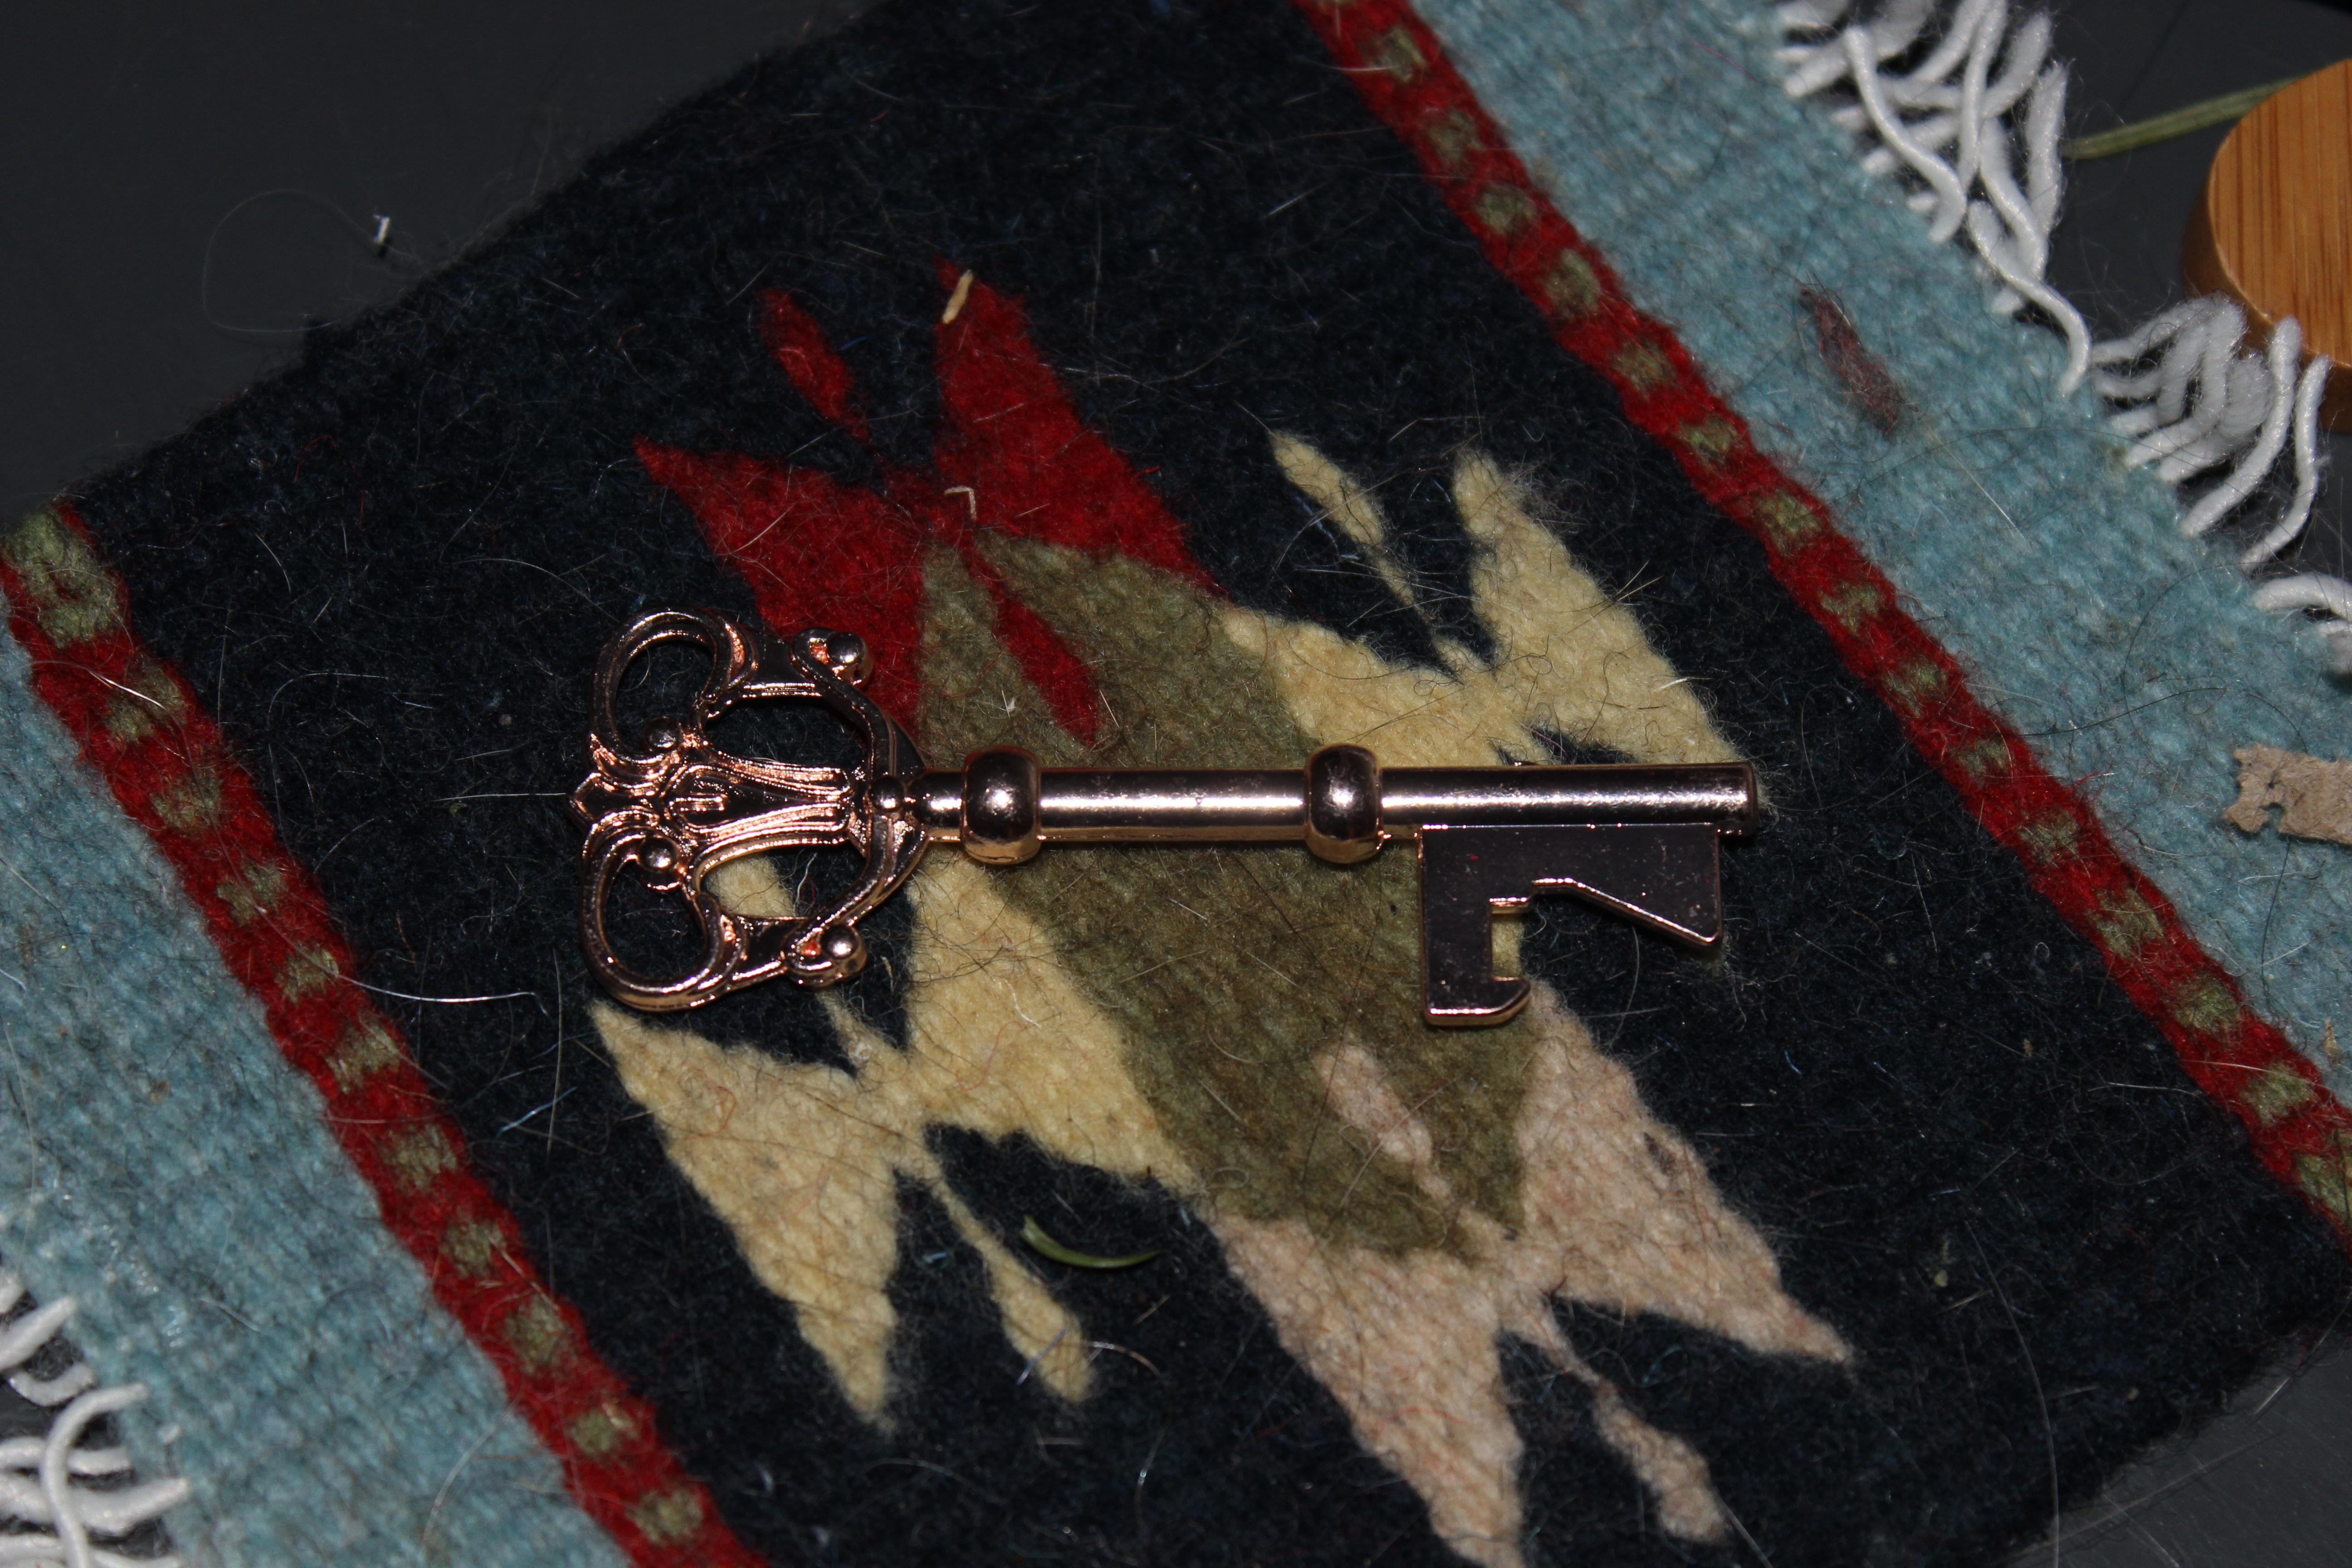metalKey: (528, 525, 1799, 1153)
